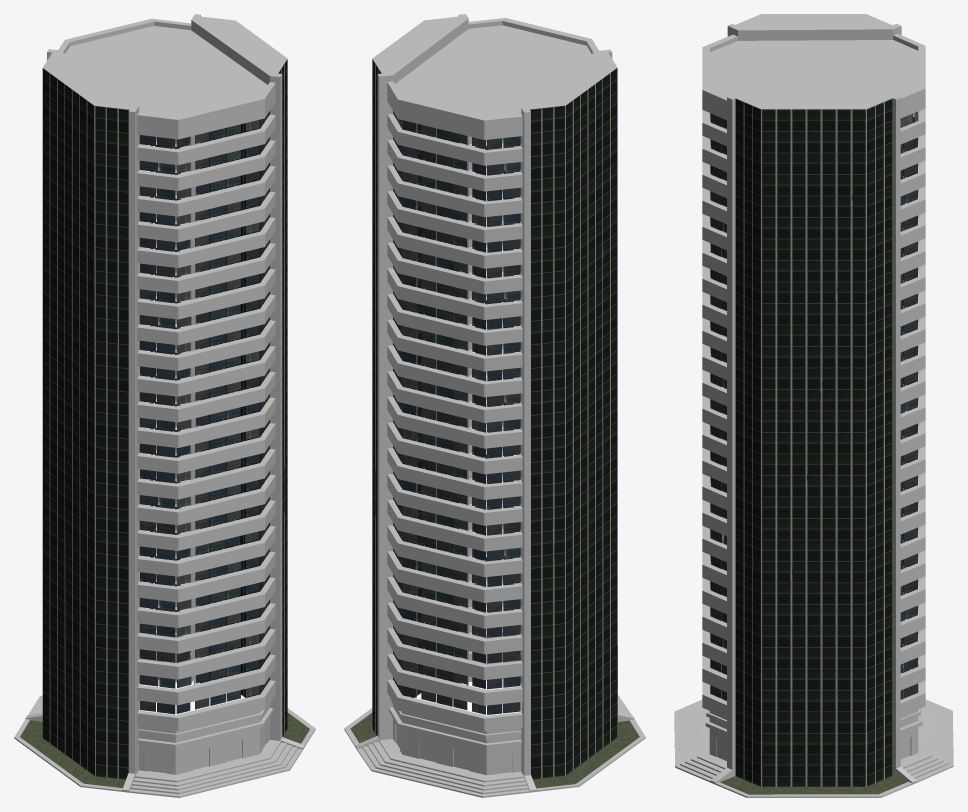
3 renders of one model, left to right at view 1: azimuth 30°, elevation 25°; view 2: azimuth 150°, elevation 25°; view 3: azimuth 270°, elevation 25°, orthographic.
Parts seen in each view (by area): view 1: BC-P03; view 2: BC-P03; view 3: BC-P03.
Boxes of the visible parts, left/top/right/bottom form: BC-P03: left=14, top=14, right=315, bottom=797; BC-P03: left=344, top=14, right=645, bottom=797; BC-P03: left=674, top=14, right=953, bottom=797.
Size of what is drawn, in the model's own units: 34.59 by 94.34 by 35.24.
